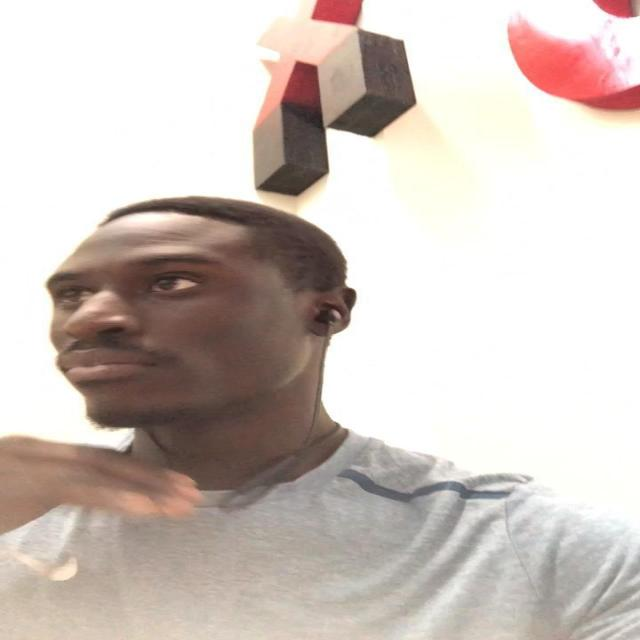face: (46, 225, 332, 430)
